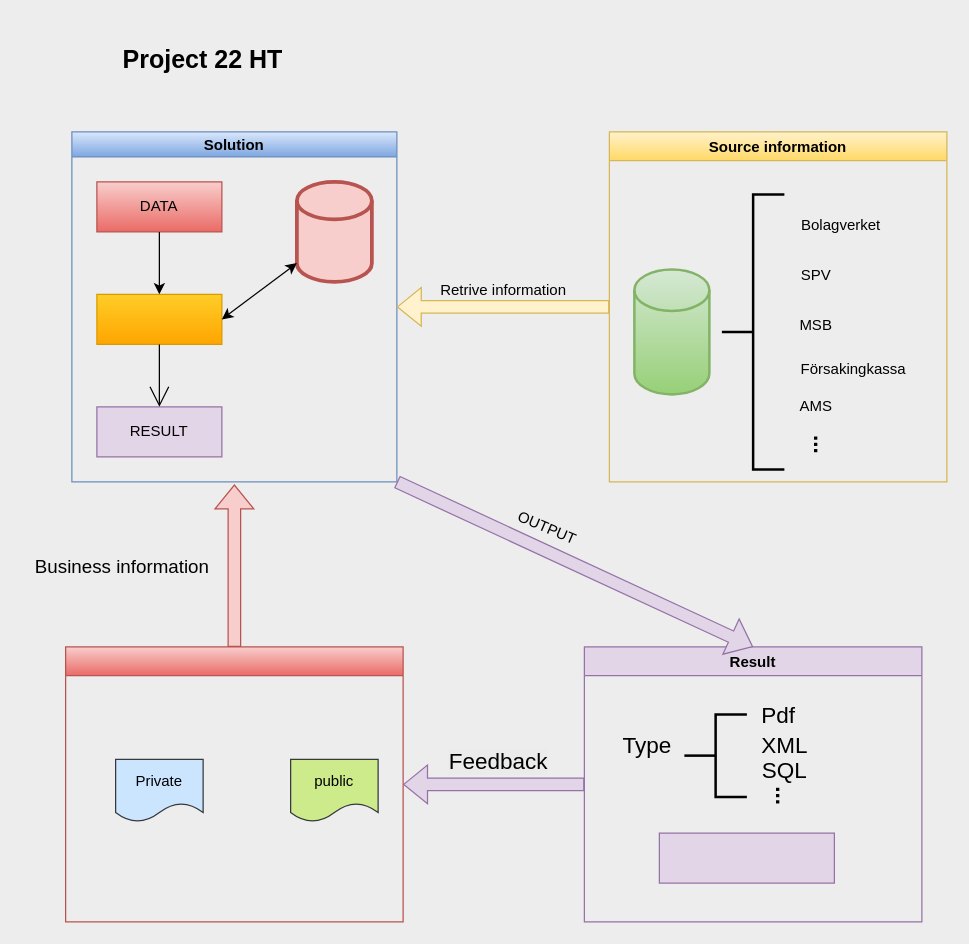
Image size: 969x944. Some labels were removed from this diagram. Here are the shapes that lost their labels. From the top down, the box of each, then its label:
(294, 179, 373, 283): DB
(96, 293, 222, 344): AI
(64, 646, 403, 922): Entrepreneur
(658, 832, 834, 883): Verksamt
